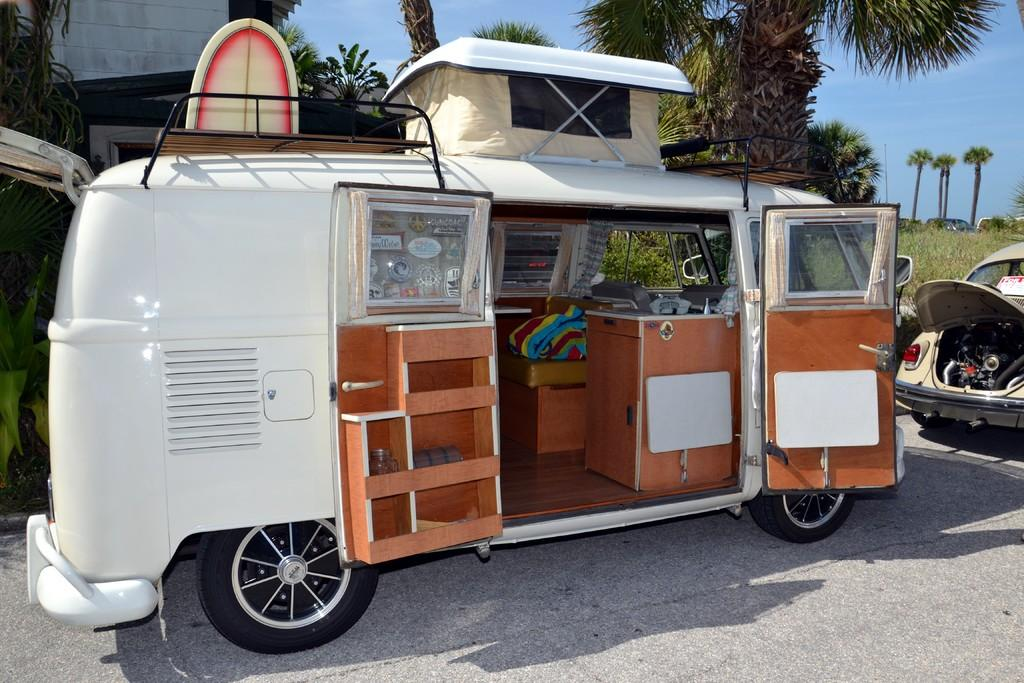cabinet_door: (593, 331, 641, 481)
handle: (858, 338, 896, 362), (343, 374, 383, 391)
